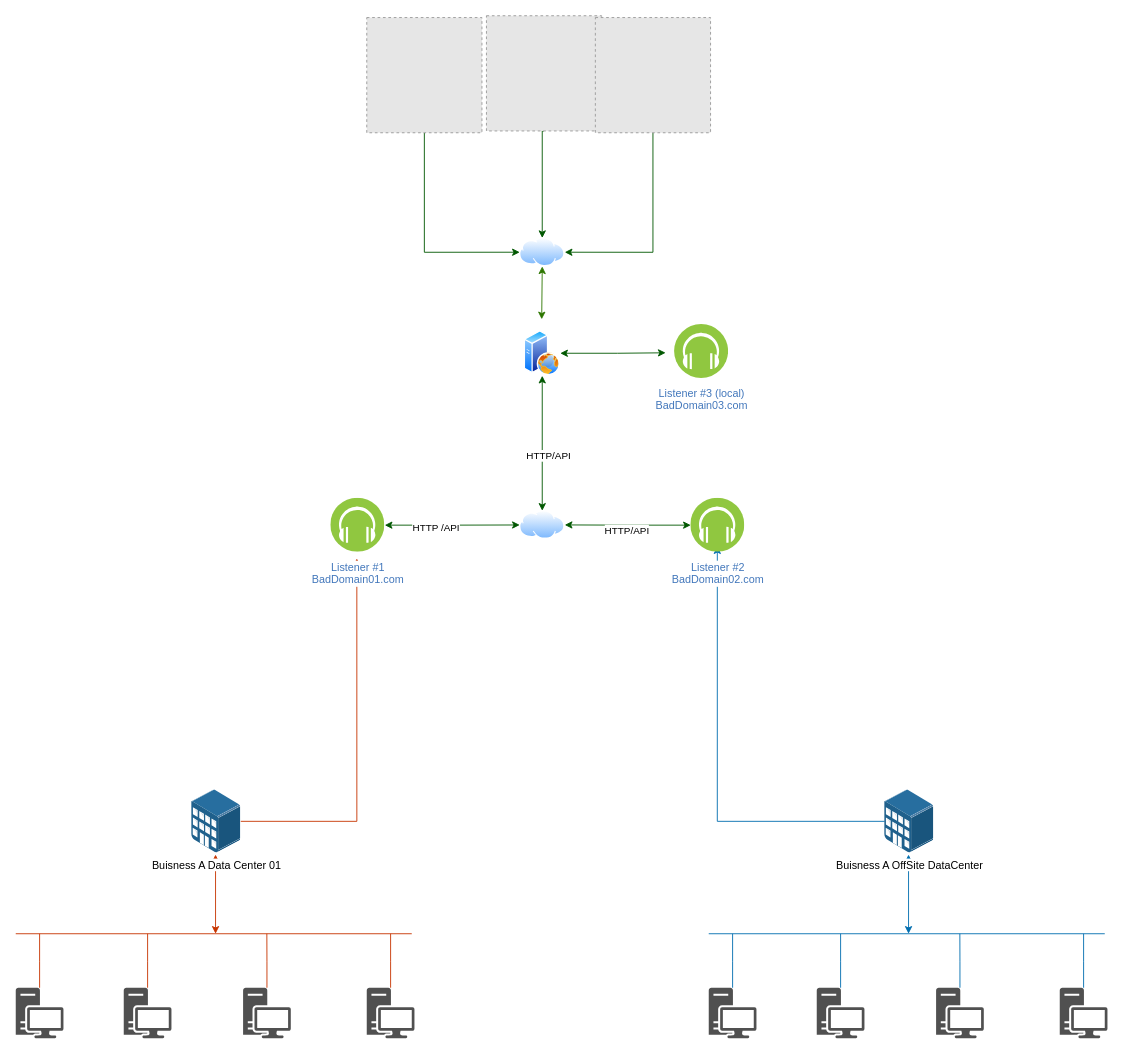
Some shapes in this 1123 by 1054 pixel diagram are drawn without their labels. Grey dashed boxes stand in for pictures. The shapes that lost their labels are listed below. From the top down, each one's centre as x and y in pixels, then its label:
[542,352]: Control server SecretControlServer.com
[541,524]: Internet
